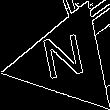N_S: (40, 33, 91, 89)
